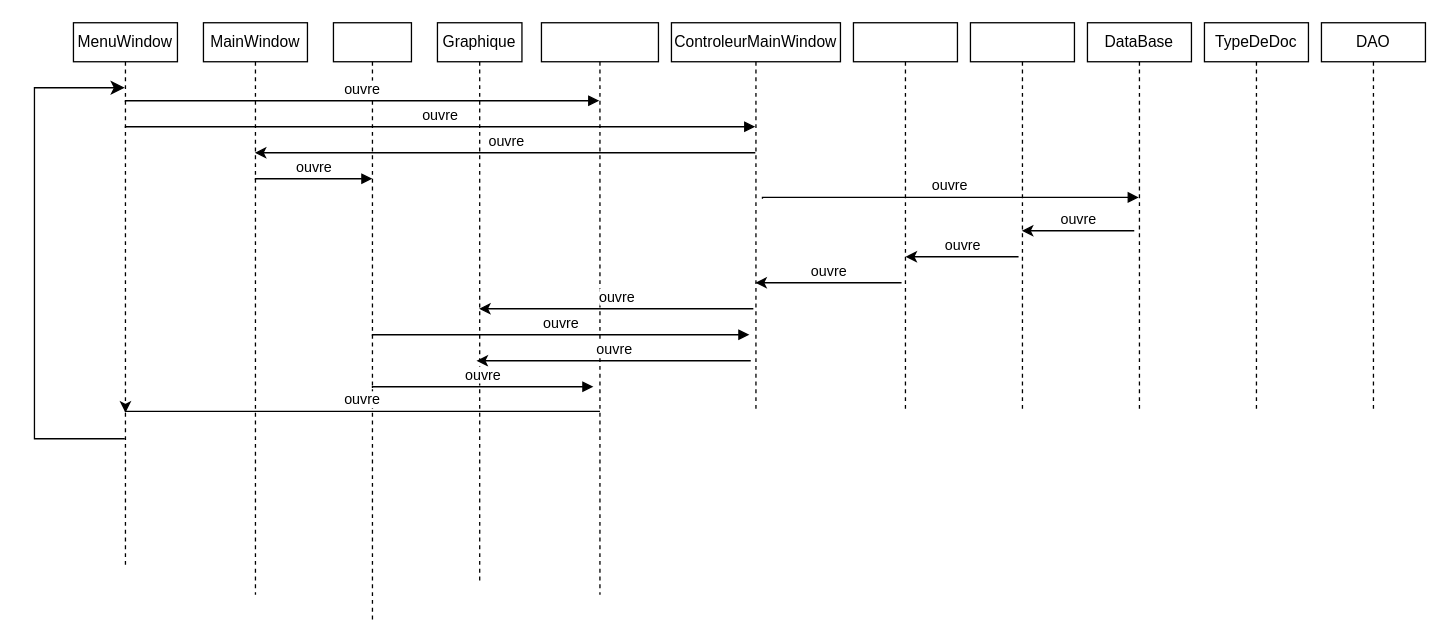
The diagram is 1448 pixels wide and 644 high, and some of its shapes have lost their labels. The shapes that lost their labels are listed below. From the top down, each one's box as (x1, y1, x2, y2) in pixels, then its label:
(852, 21, 957, 413): Bibliotheque
(969, 21, 1074, 413): Document
(332, 21, 411, 621): Parametre
(540, 21, 658, 595): ControleurMenu
